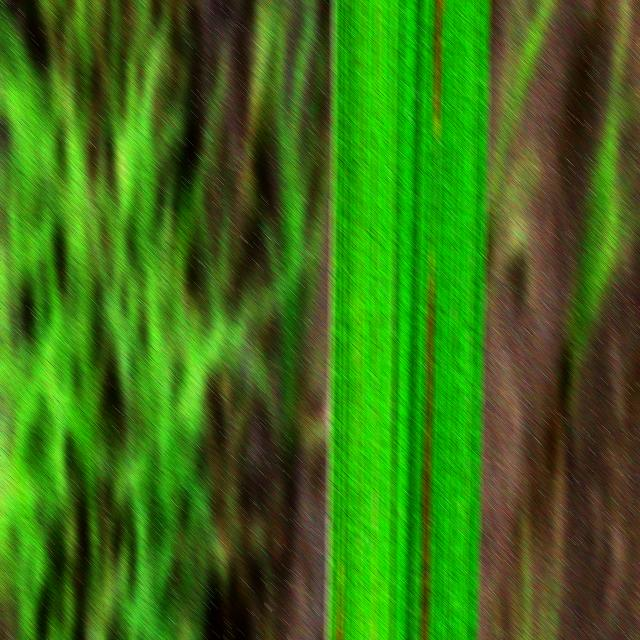NBS: (421, 251, 433, 640), (433, 0, 444, 136), (335, 568, 342, 640)
